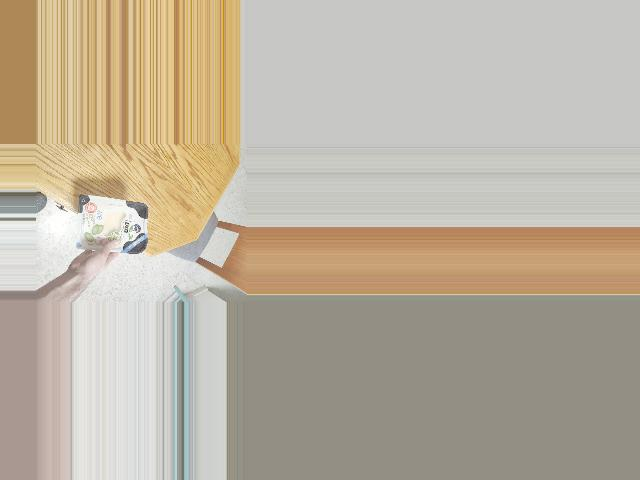cheese: (63, 203, 157, 258)
